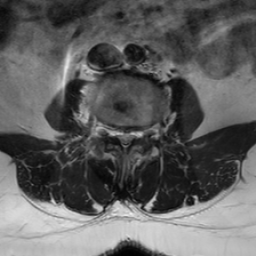CCS_severe_stenosis: (121, 122, 129, 158)
LFS_stenosis: (138, 121, 149, 146)
LLS_stenosis: (129, 122, 138, 147)
RFS_normal: (105, 119, 114, 144)
RLS_normal: (114, 122, 121, 147)
